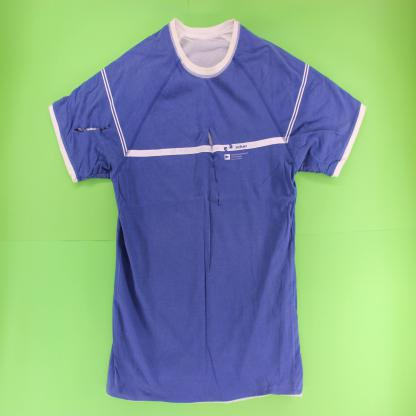hole: (207, 126, 221, 208), (71, 124, 113, 135)
